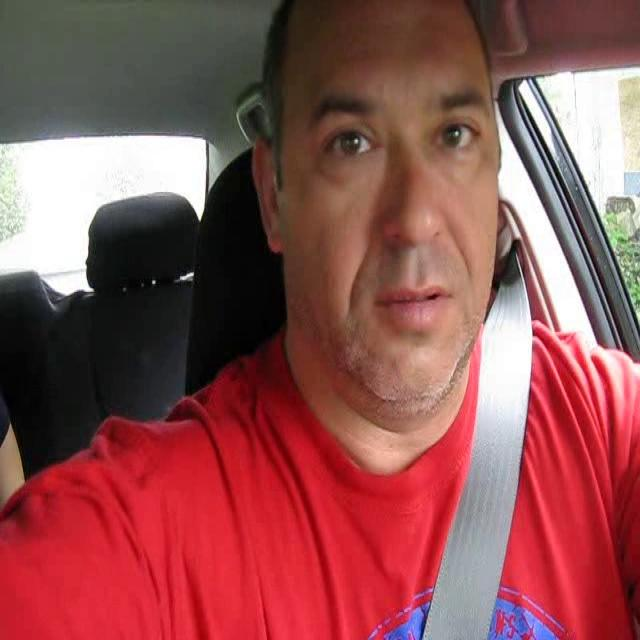close: (370, 278, 459, 333)
